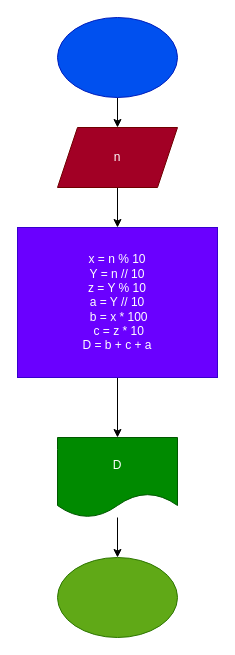
This 235x655 diagram has some shape labels left out. The shapes that lost their labels are listed below. From the top down, each one's box as (x1, y1, x2, y2) in pixels, then its label:
(56, 16, 178, 98): inicio
(56, 556, 178, 638): fin
